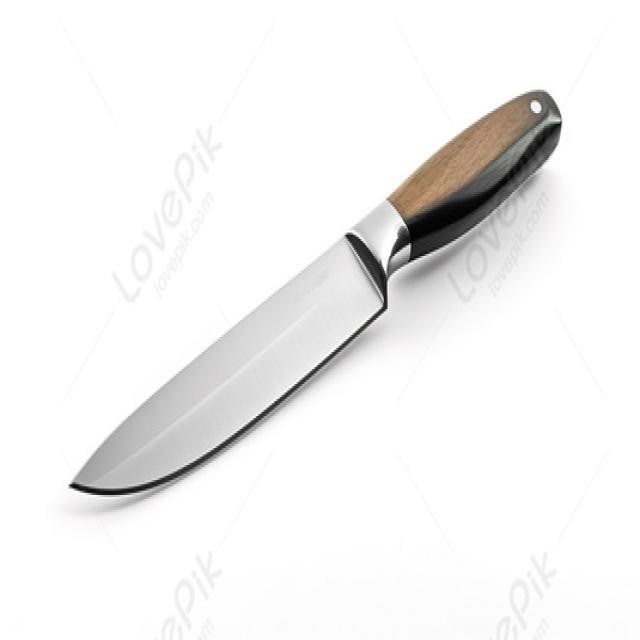Knife: (67, 85, 561, 497)
